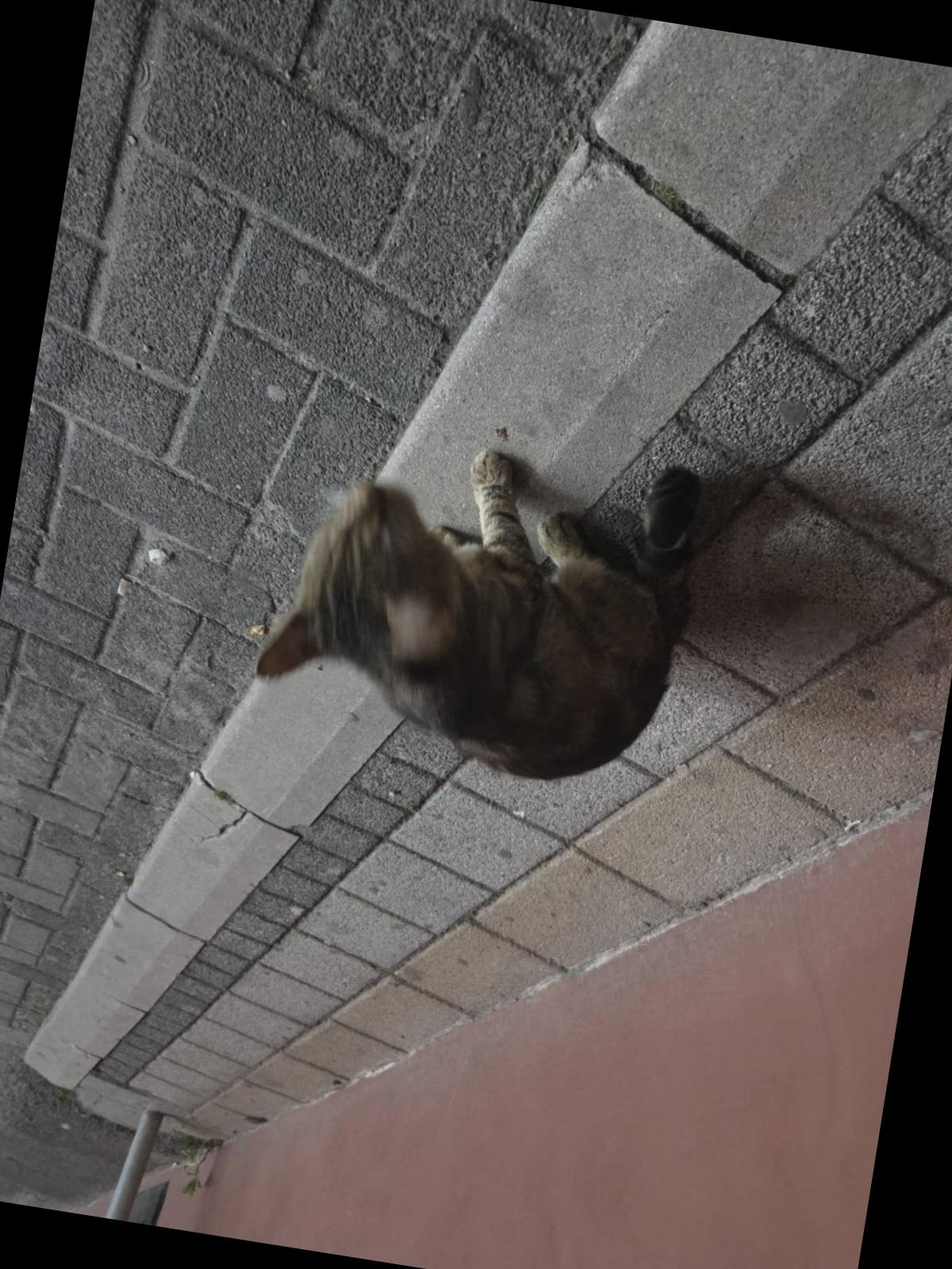macka: (245, 406, 712, 804)
